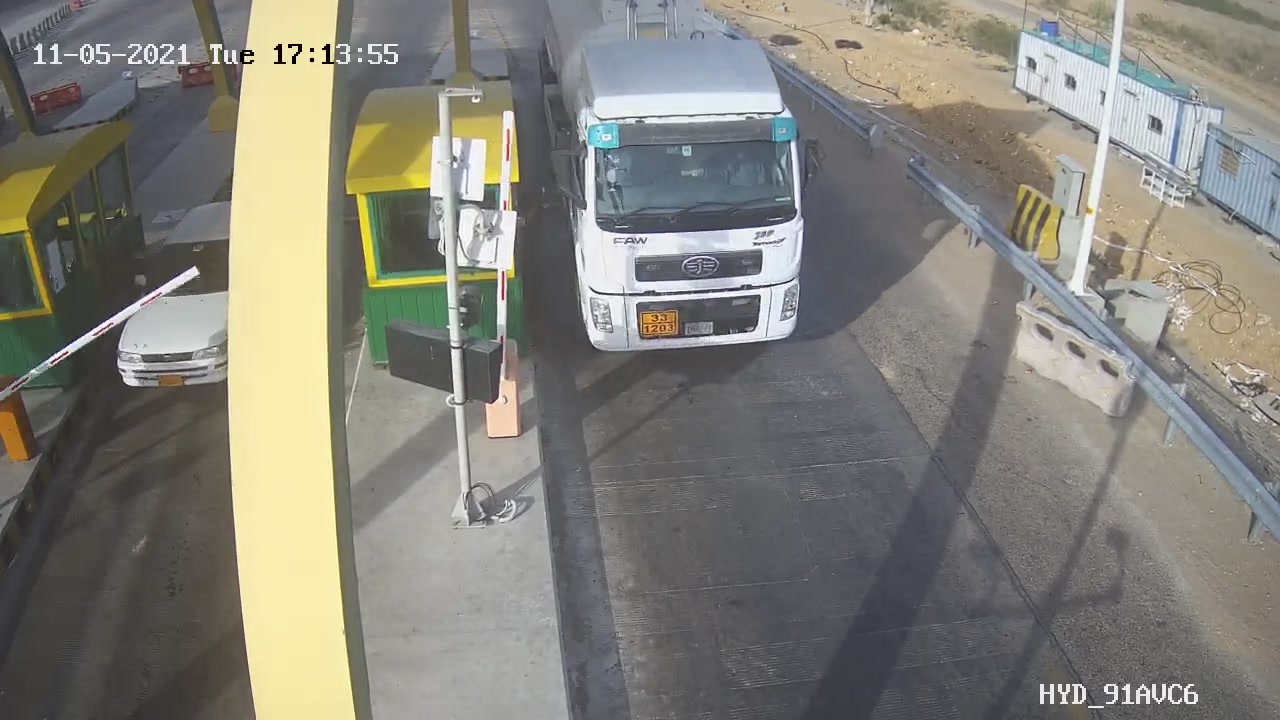F6: (520, 1, 847, 370)
